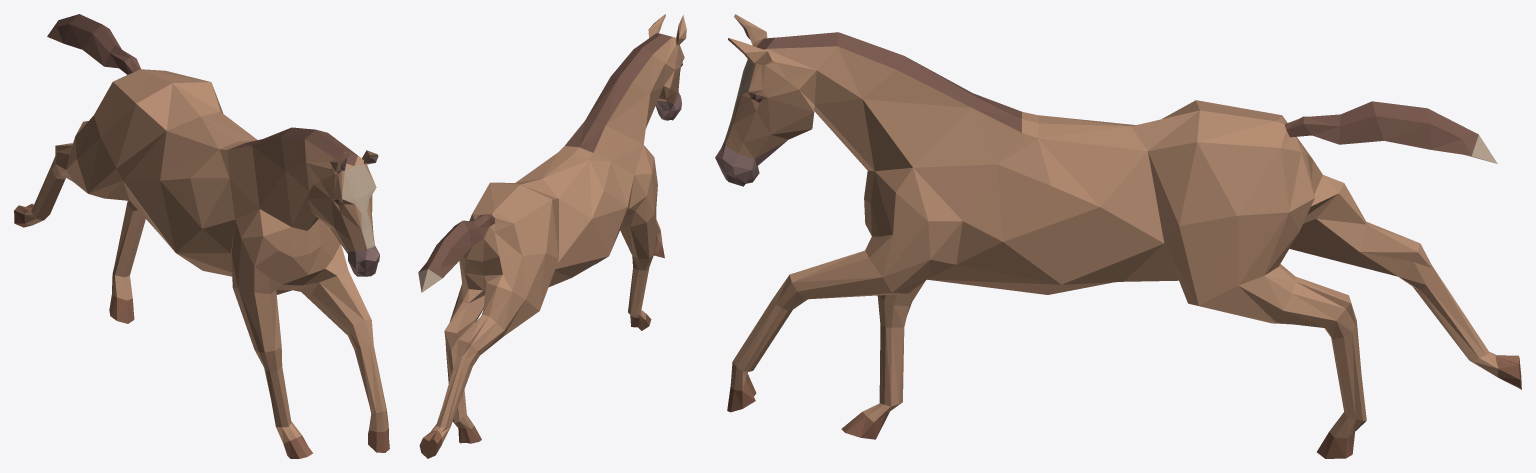
3 renders of one model, left to right at view 1: azimuth 30°, elevation 25°; view 2: azimuth 150°, elevation 25°; view 3: azimuth 270°, elevation 25°, orthographic. The views are drawn at different scales.
Parts seen in each view (by area): view 1: mesh_0; view 2: mesh_0; view 3: mesh_0.
Boxes of the visible parts, x1=… form: mesh_0: x1=14, y1=14, x2=389, y2=458; mesh_0: x1=418, y1=14, x2=686, y2=458; mesh_0: x1=715, y1=14, x2=1521, y2=458.
Bounding box in the file's own units: 60.25 × 178 × 302.
